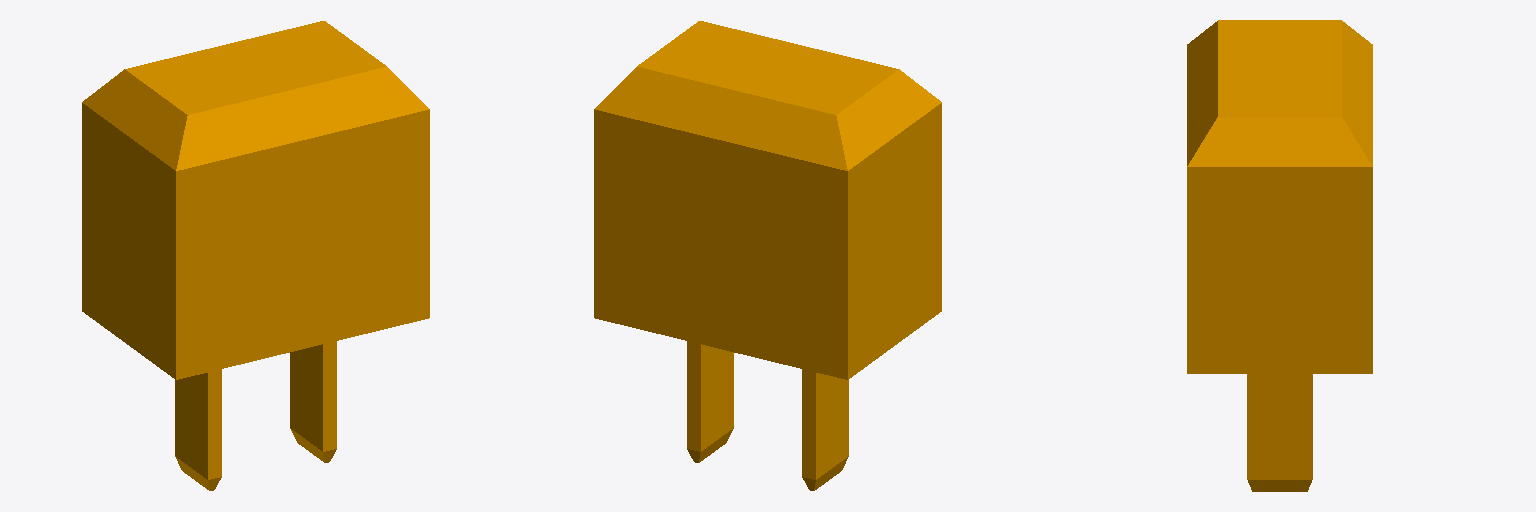
robot.urdf — nema_1_15_plug:
<?xml version="1.0"?>
<robot name="nema_1_15_plug">
  <link name="nema_1_15_plug">
    <visual><geometry><mesh filename="../mesh/nema_1_15/asset_plug.obj"/></geometry></visual>
    <collision><geometry><mesh filename="../mesh/nema_1_15/asset_plug.obj"/></geometry></collision>
  </link>
</robot>

--- Render facts (derived) ---
Views: 3 orthographic renders of the robot side by side, from view 1: azimuth 30°, elevation 25°; view 2: azimuth 150°, elevation 25°; view 3: azimuth 270°, elevation 25°.
Robot: nema_1_15_plug — 1 links, 0 joints (none); root link nema_1_15_plug; default pose: all joints at 0.
Visible links, largest first — view 1: nema_1_15_plug; view 2: nema_1_15_plug; view 3: nema_1_15_plug.
Link boxes in pixels (x1,y1,x2,y2): nema_1_15_plug: [82, 21, 429, 490]; nema_1_15_plug: [594, 21, 941, 490]; nema_1_15_plug: [1187, 20, 1372, 491].
Bounding box of the posed robot: 0.028 × 0.018 × 0.042 m (x, y, z).
1 mesh visuals loaded from 1 distinct referenced files (1 OBJ).
